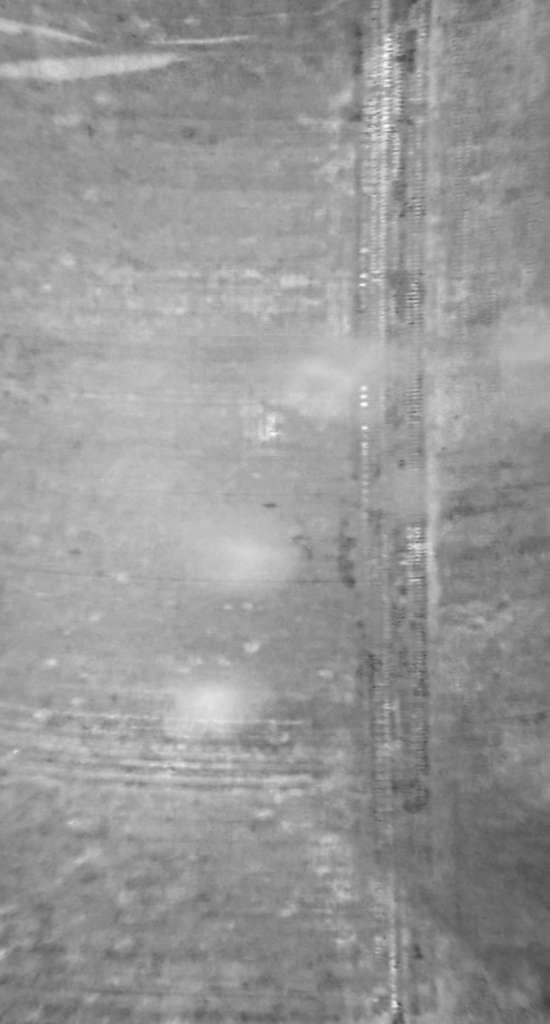splice: (353, 1, 441, 1024)
